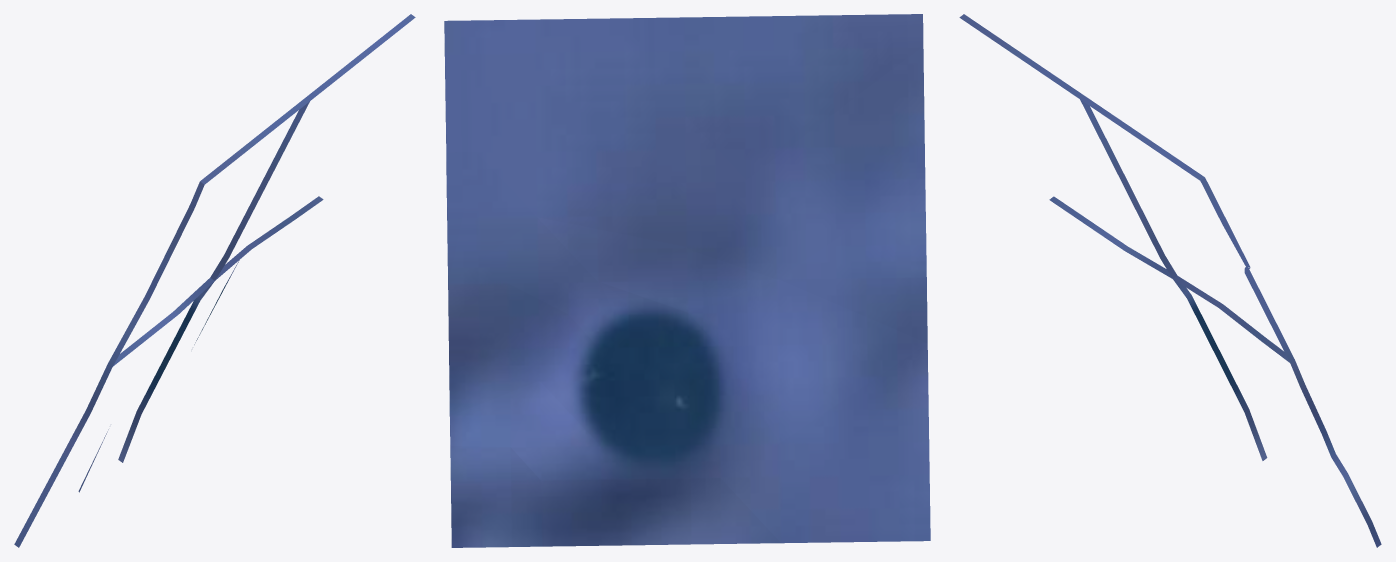
3 renders of one model, left to right at view 1: azimuth 30°, elevation 25°; view 2: azimuth 150°, elevation 25°; view 3: azimuth 270°, elevation 25°, orthographic. The views are drawn at different scales.
Bounding box in the file's own units: 9785 × 8937 × 8223.
1 material, 1 textured.
